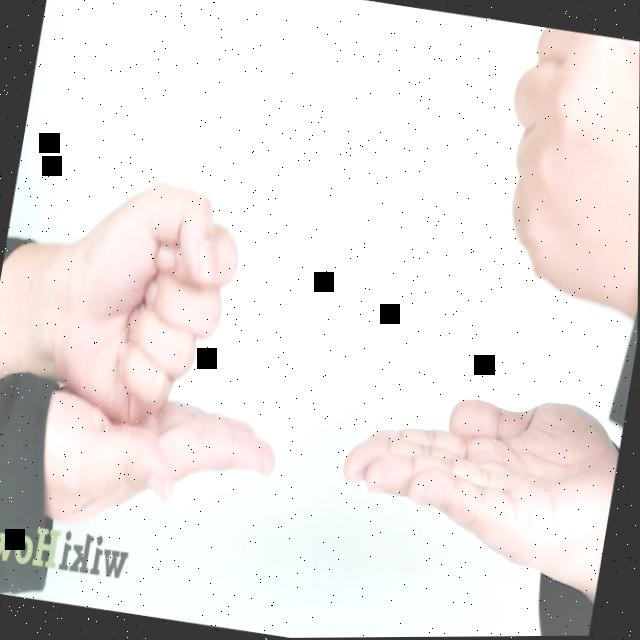Rock: (42, 164, 252, 436), (481, 24, 640, 315)
